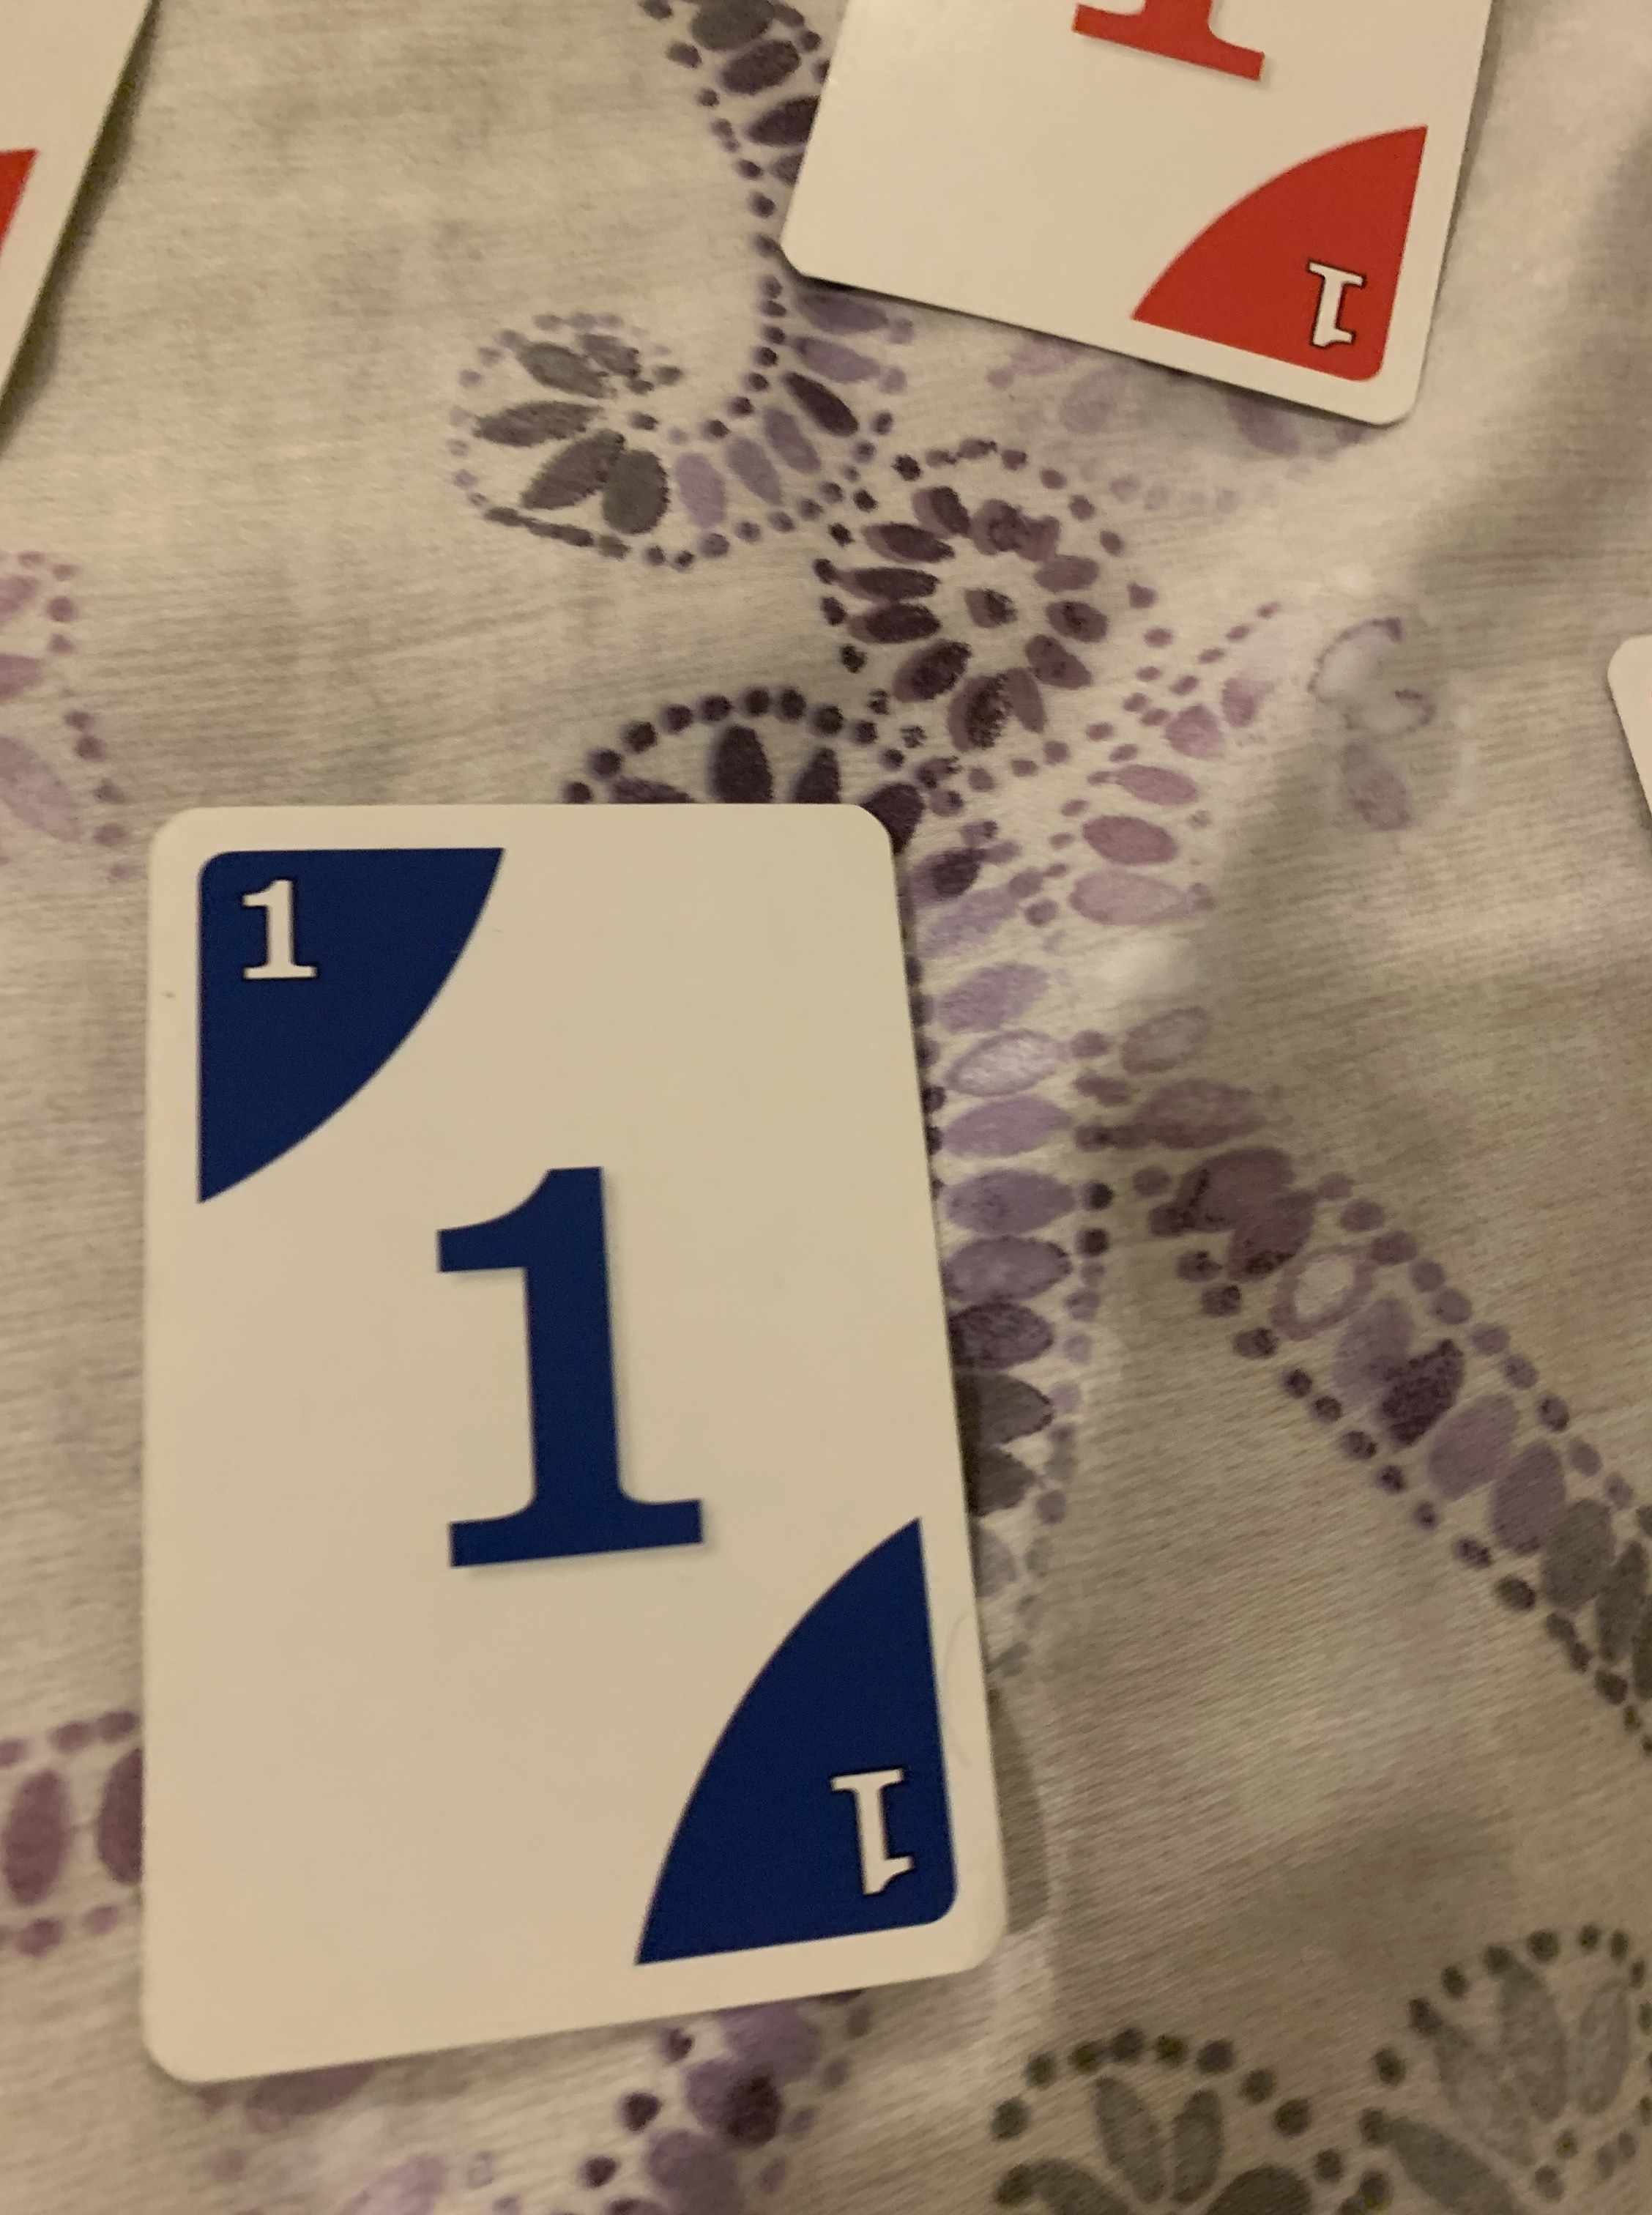one: (127, 797, 1019, 2099)
